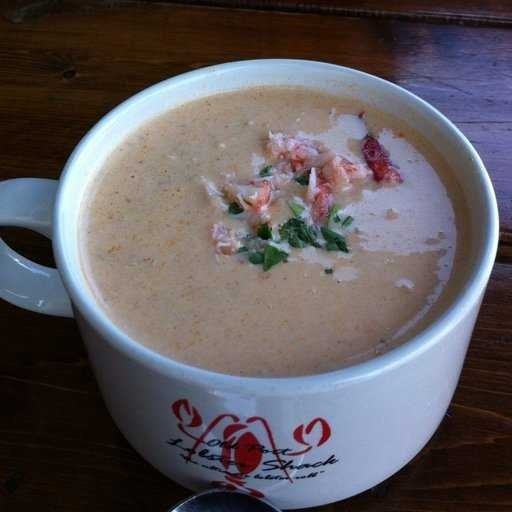soup: (91, 69, 433, 369)
